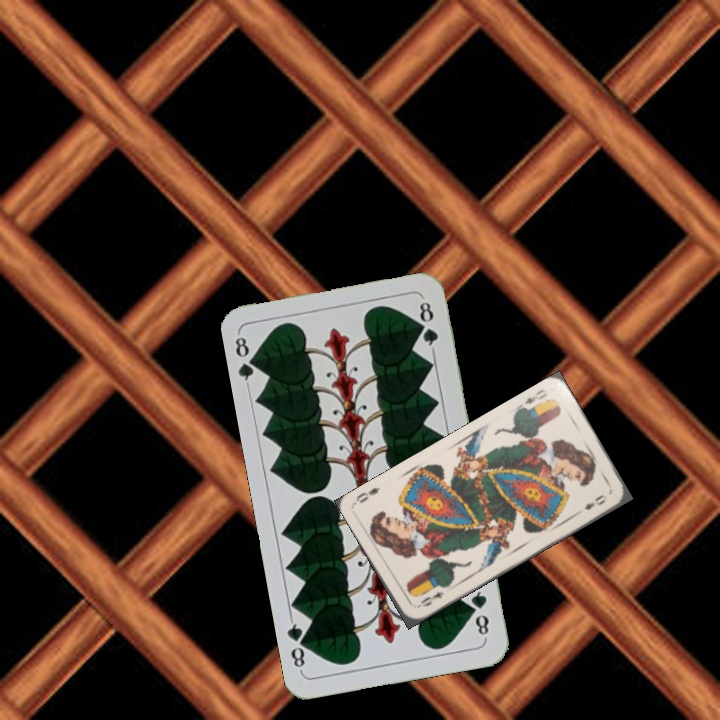EO: (515, 385, 552, 413), (413, 587, 446, 611)
G8: (231, 330, 262, 389), (466, 582, 492, 641)
